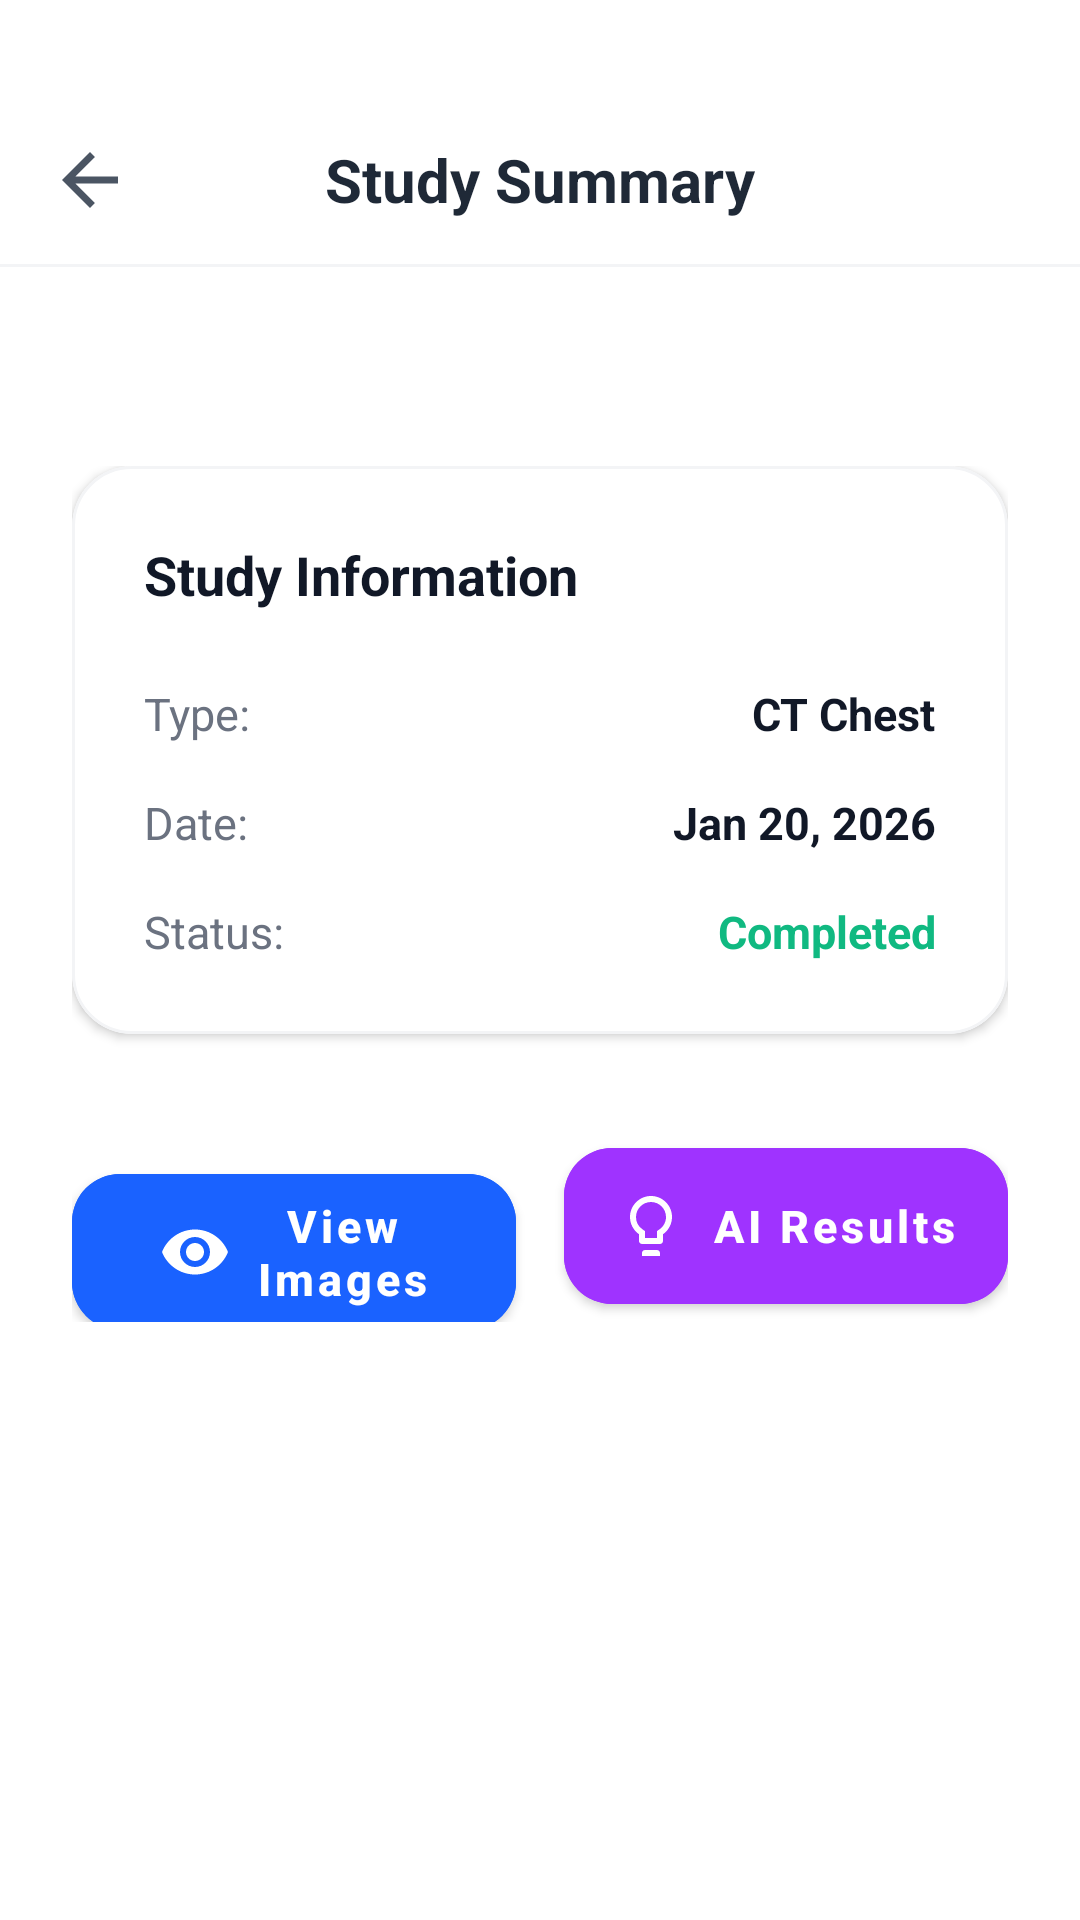

Named icons in this screenshot (1080px×1920px) and their centers, (x,y):
back: (90,180)
